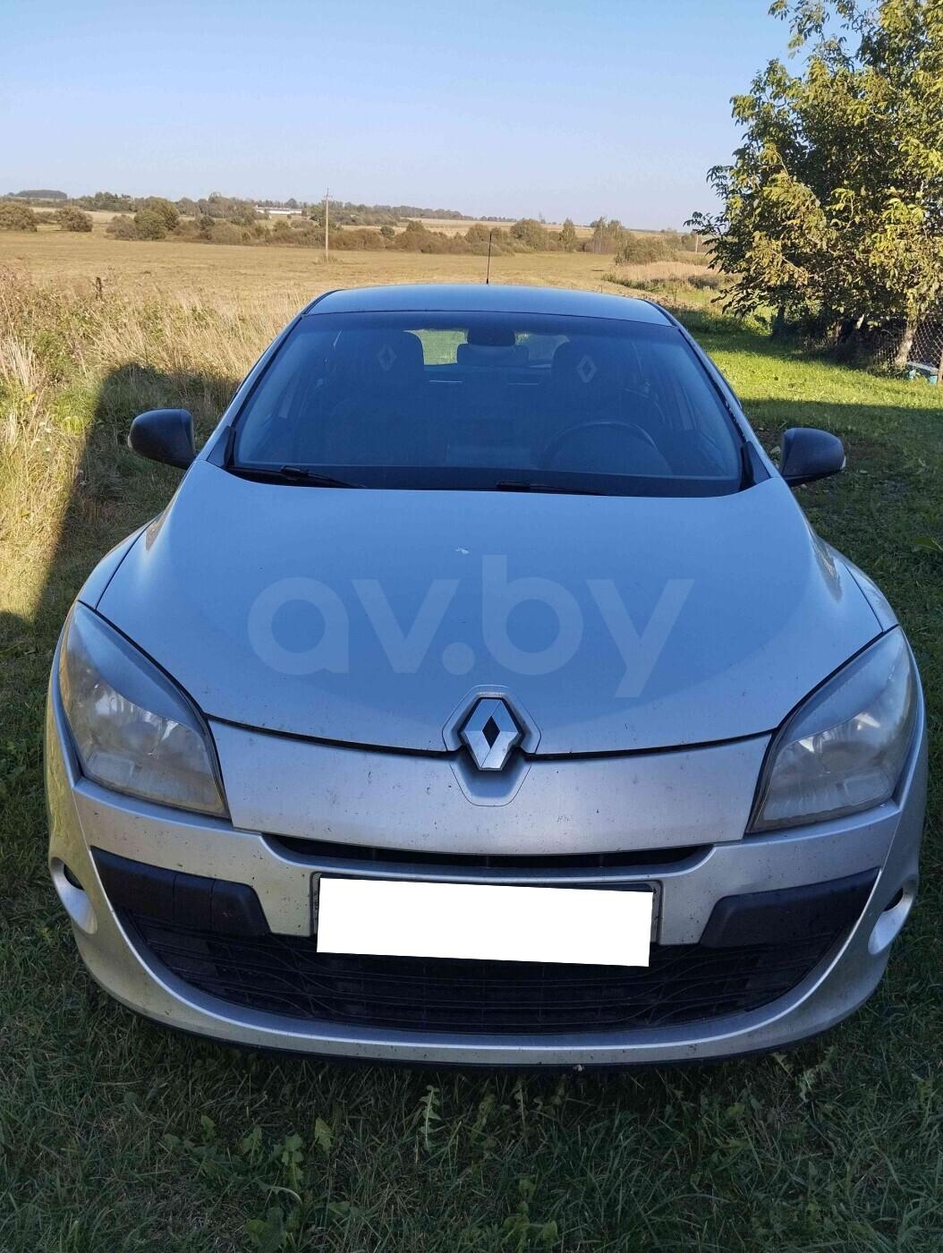Megane_2008-2014: (39, 279, 927, 1067)
